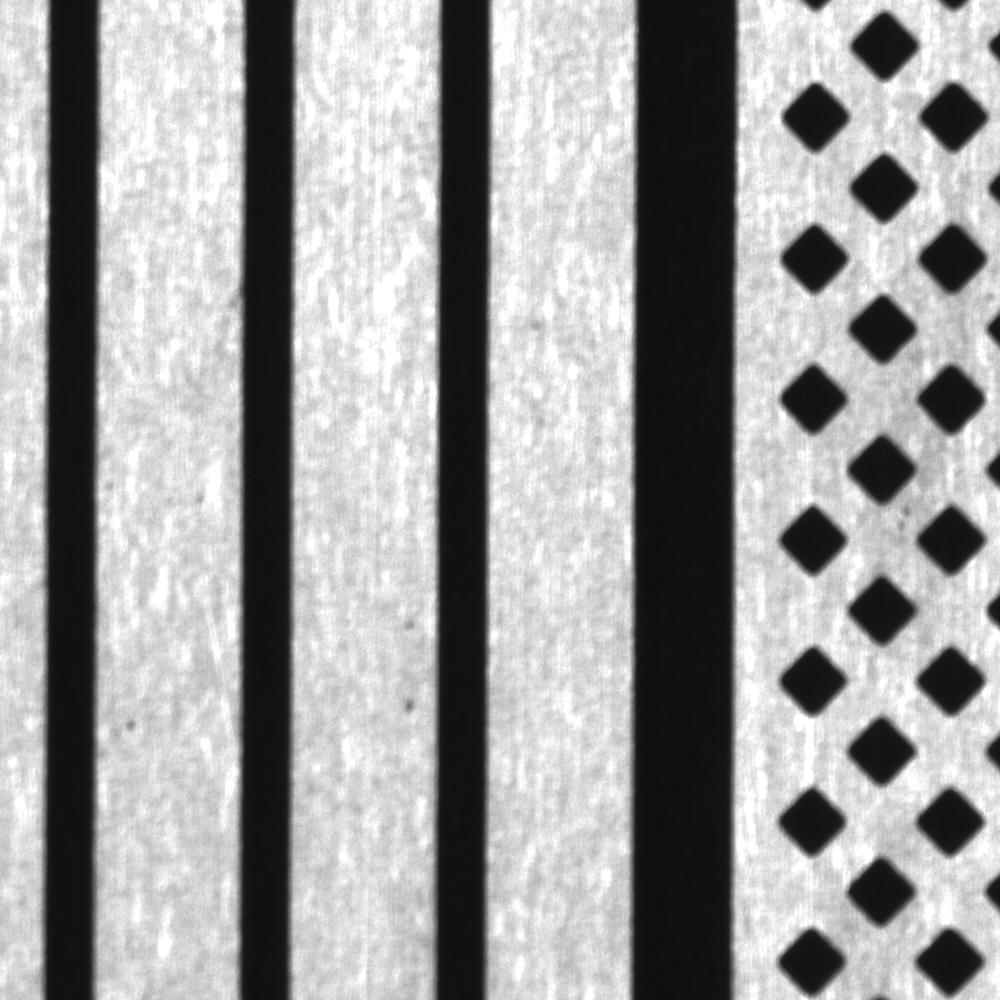Etching: (387, 602, 429, 644)
Pinhole: (386, 684, 429, 731), (114, 705, 155, 745)
